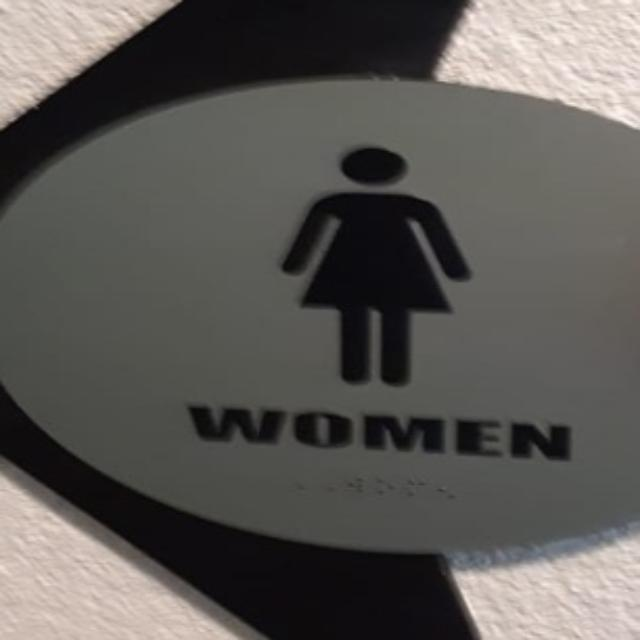wc nu: (2, 79, 638, 552)
